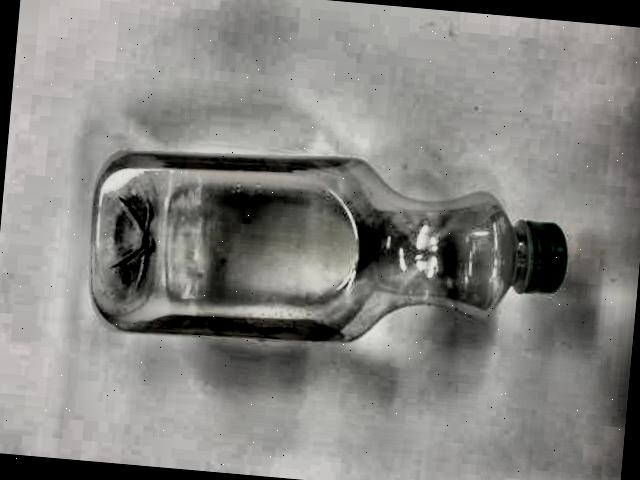Bottles: (52, 114, 600, 398)
